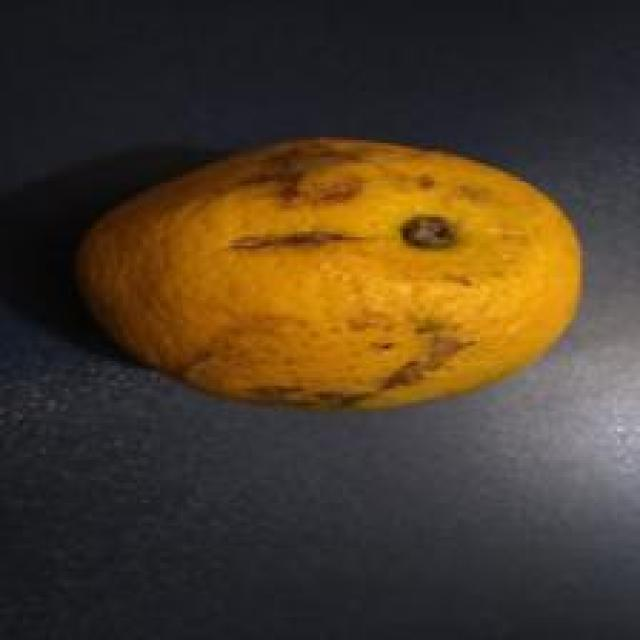overripe: (68, 132, 584, 418)
